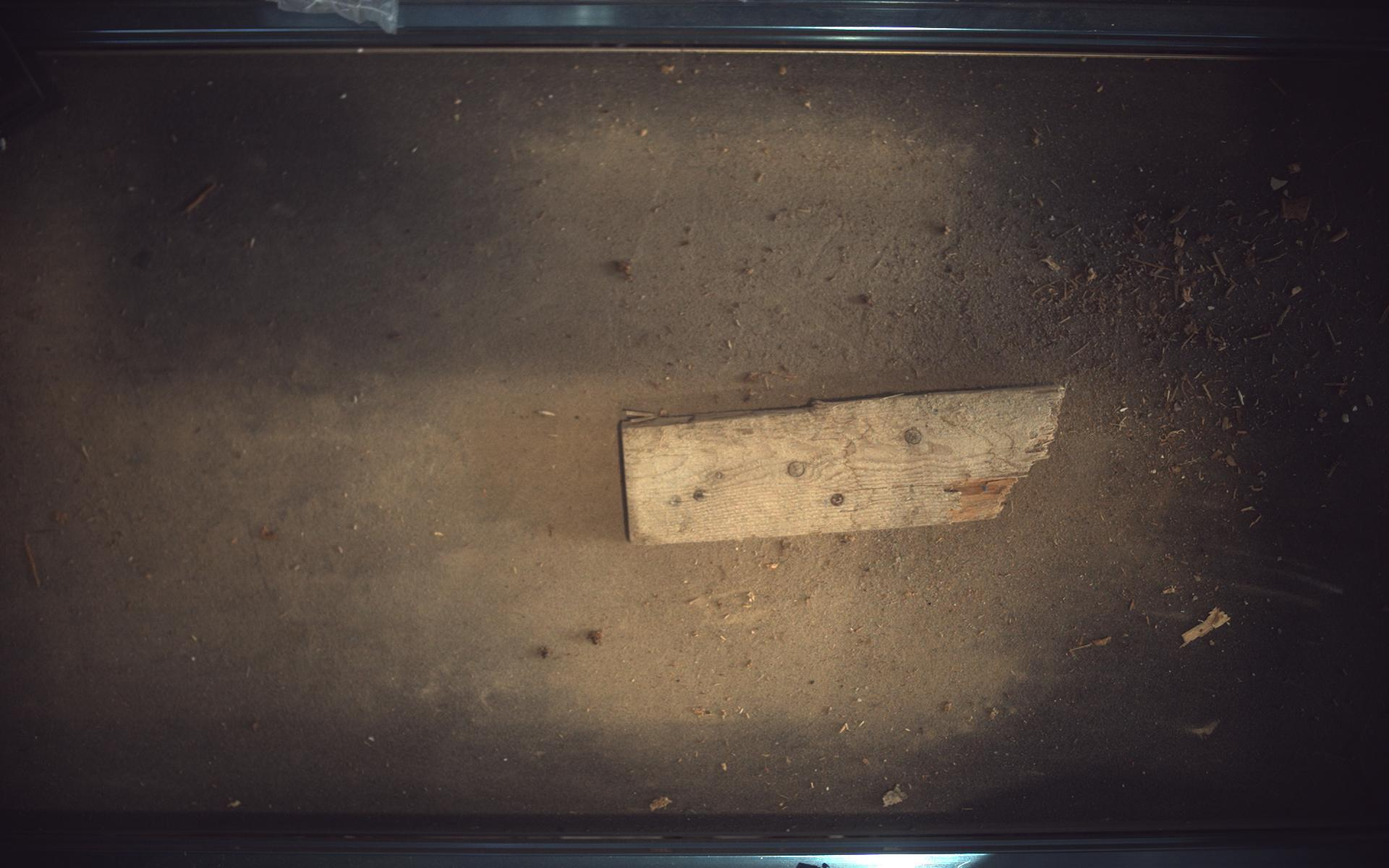wood: (621, 385, 1067, 545)
